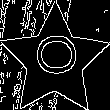O_W: (30, 39, 79, 82)
